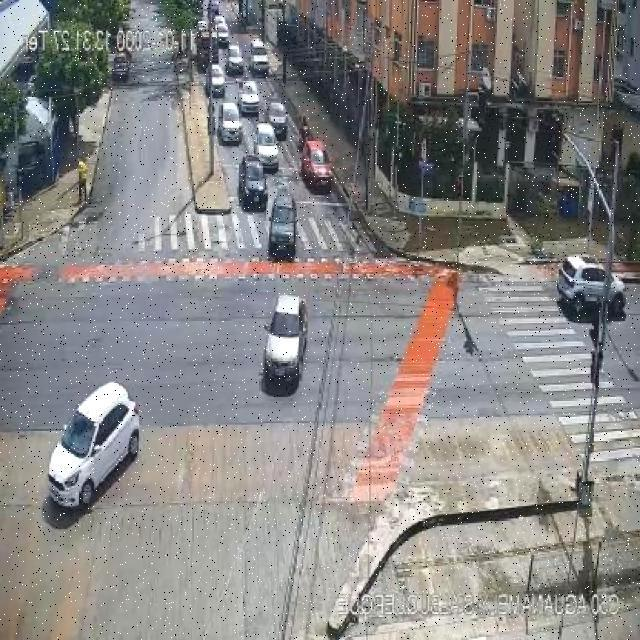Car: (46, 383, 142, 509), (262, 293, 308, 381), (556, 256, 625, 314), (266, 189, 298, 259), (299, 138, 333, 193), (238, 156, 269, 208), (16, 138, 47, 185), (252, 123, 279, 170), (217, 102, 243, 142), (265, 102, 289, 137), (248, 38, 268, 77), (238, 81, 261, 114), (225, 44, 245, 74), (207, 64, 225, 96), (112, 54, 130, 82), (217, 23, 230, 44), (212, 14, 228, 29)
